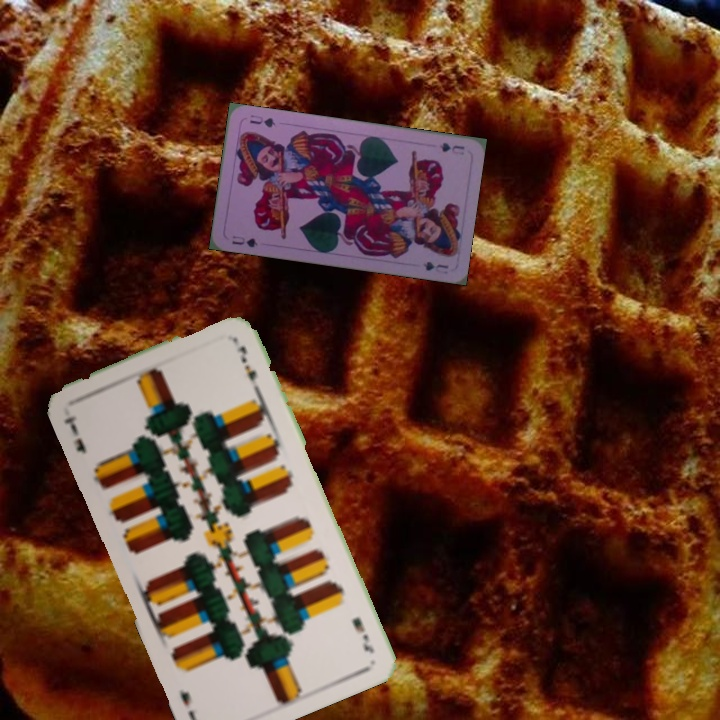E7: (60, 411, 89, 457), (348, 613, 377, 656)
GU: (228, 232, 261, 250), (436, 138, 467, 157)
